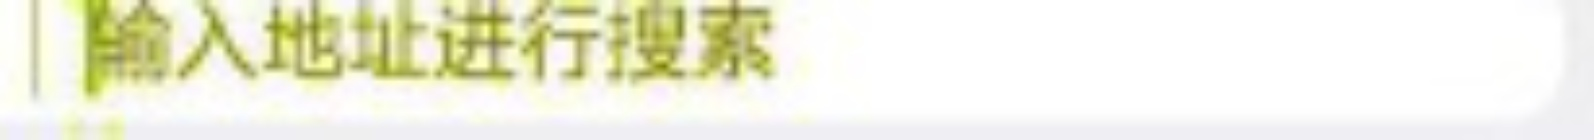EditText: (1, 1, 1593, 139)
